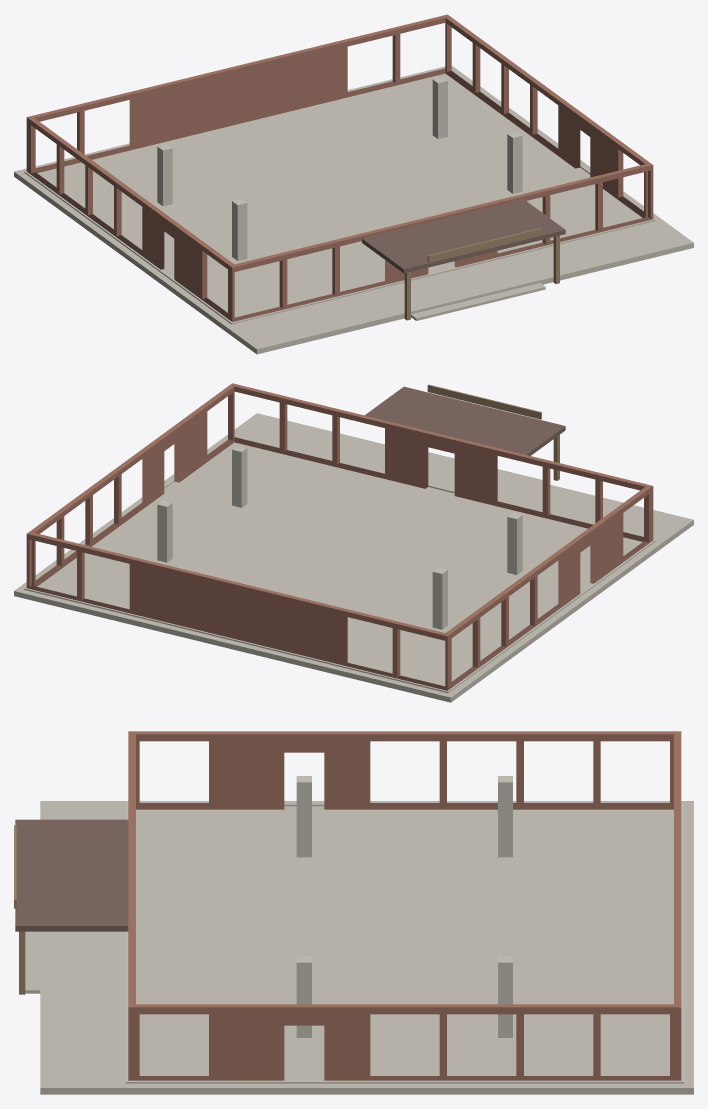
The model's file is brick-lobby.reveal-v1.lod1.glb.
The picture shows the model from 3 angles, top to bottom: view 1: azimuth 30°, elevation 25°; view 2: azimuth 150°, elevation 25°; view 3: azimuth 270°, elevation 25°; orthographic projection. The views are drawn at different scales.
Visible parts, largest first — view 1: brick-lobby; view 2: brick-lobby; view 3: brick-lobby.
Part boxes in pixels (x1,y1,x2,y2): brick-lobby: [14, 14, 693, 354]; brick-lobby: [14, 383, 693, 702]; brick-lobby: [14, 731, 693, 1094].
Bounding box in the file's own units: 27 × 3.92 × 27.05.
